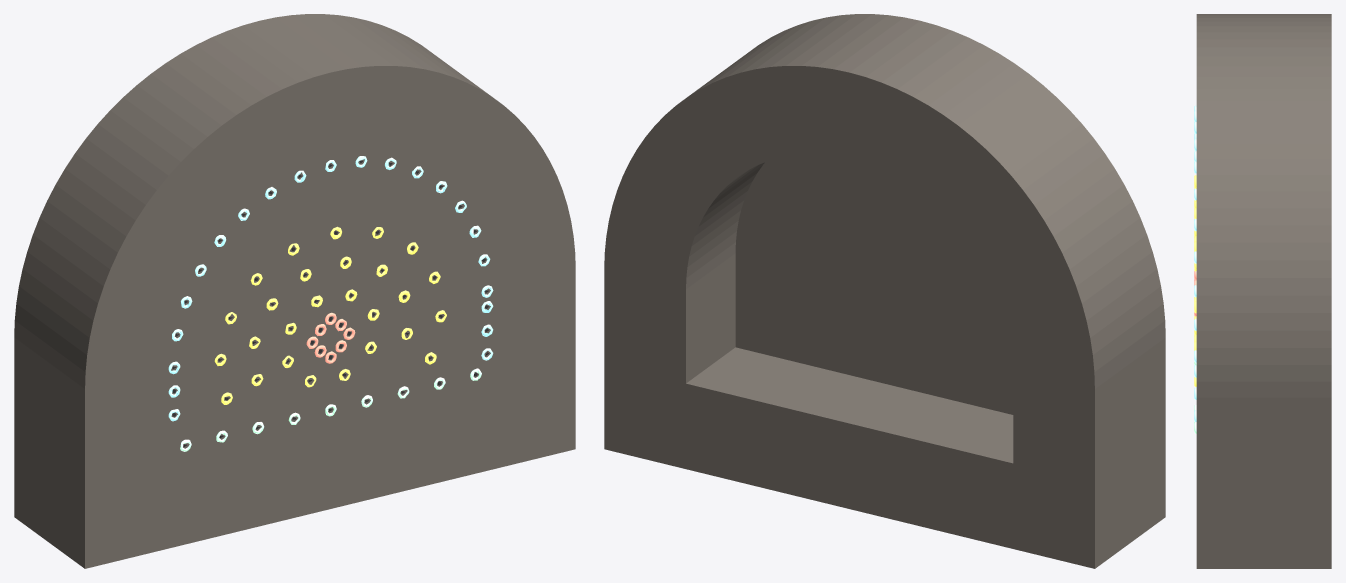
The model's file is lite.glb.
The picture shows the model from 3 angles, left to right: view 1: azimuth 30°, elevation 25°; view 2: azimuth 150°, elevation 25°; view 3: azimuth 270°, elevation 25°; orthographic projection. The views are drawn at different scales.
Parts seen in each view (by area): view 1: tunnel-face, easer-holes, contour-holes, lifter-holes, cut-holes; view 2: tunnel-face; view 3: tunnel-face, contour-holes, easer-holes.
Part boxes in pixels (x1,y1,x2,y2): tunnel-face: (14, 14, 575, 568); easer-holes: (214, 226, 446, 404); contour-holes: (168, 156, 493, 421); lifter-holes: (180, 368, 481, 451); cut-holes: (306, 312, 355, 363); tunnel-face: (604, 14, 1165, 568); tunnel-face: (1196, 14, 1331, 568); contour-holes: (1194, 105, 1196, 421); easer-holes: (1194, 175, 1196, 386).
Bounding box in the file's own units: 12 × 10.2 × 3.05.
